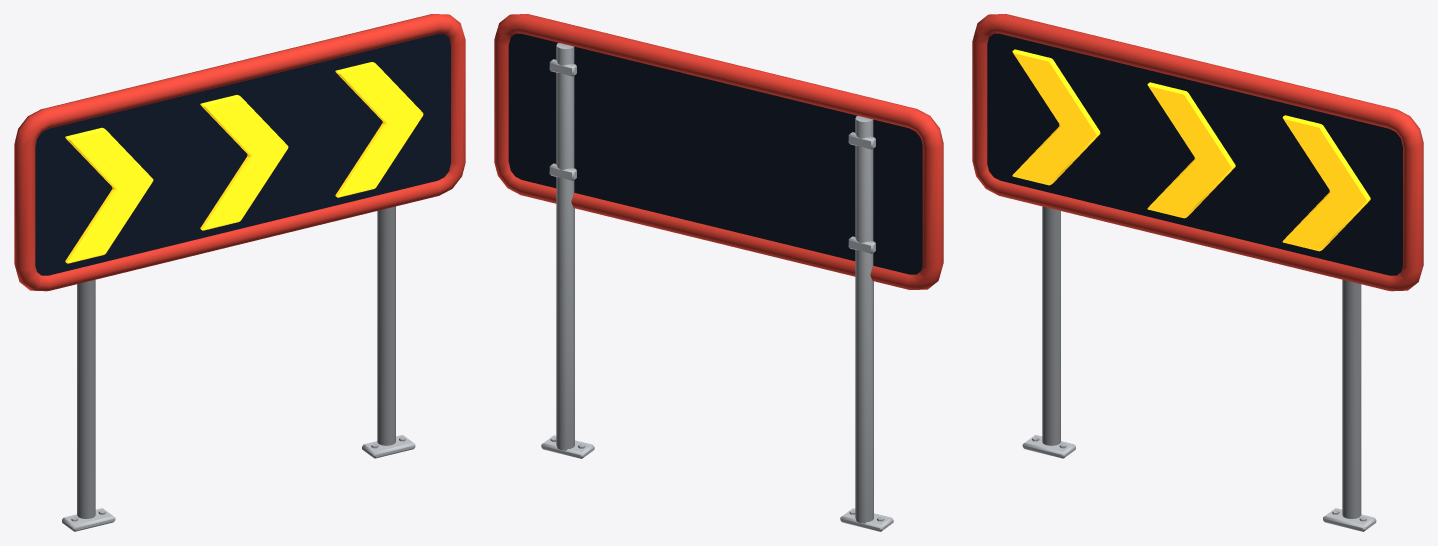
File: turn-chevron.glb
3 renders of one model, left to right at view 1: azimuth 30°, elevation 25°; view 2: azimuth 150°, elevation 25°; view 3: azimuth 330°, elevation 25°, orthographic.
Parts seen in each view (by area): view 1: Chevron Chevron board, Chevron Chevron frame, Chevron Chevron post, Chevron right arrow, Chevron right arrow 2, Chevron right arrow 1; view 2: Chevron Chevron board, Chevron Chevron frame, Chevron Chevron post; view 3: Chevron Chevron board, Chevron Chevron frame, Chevron Chevron post, Chevron right arrow 2, Chevron right arrow, Chevron right arrow 1.
Boxes of the visible parts, x1=… form: Chevron Chevron board: x1=35, y1=33, x2=450, y2=275; Chevron Chevron frame: x1=14, y1=14, x2=465, y2=291; Chevron Chevron post: x1=62, y1=206, x2=415, y2=531; Chevron right arrow: x1=65, y1=127, x2=153, y2=263; Chevron right arrow 2: x1=335, y1=62, x2=423, y2=197; Chevron right arrow 1: x1=200, y1=95, x2=288, y2=230; Chevron Chevron board: x1=508, y1=33, x2=922, y2=274; Chevron Chevron frame: x1=494, y1=14, x2=943, y2=289; Chevron Chevron post: x1=541, y1=43, x2=893, y2=531; Chevron Chevron board: x1=987, y1=33, x2=1402, y2=275; Chevron Chevron frame: x1=972, y1=14, x2=1423, y2=291; Chevron Chevron post: x1=1022, y1=206, x2=1376, y2=531; Chevron right arrow 2: x1=1282, y1=115, x2=1370, y2=251; Chevron right arrow: x1=1012, y1=49, x2=1100, y2=185; Chevron right arrow 1: x1=1147, y1=82, x2=1235, y2=218.
Size of the model in its own units: 3.59 by 3.25 by 0.215.
